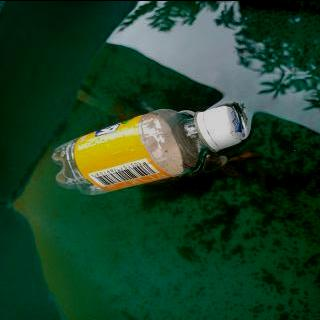bottle: (46, 100, 248, 198)
